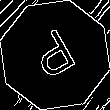P_SE: (27, 24, 83, 86)
